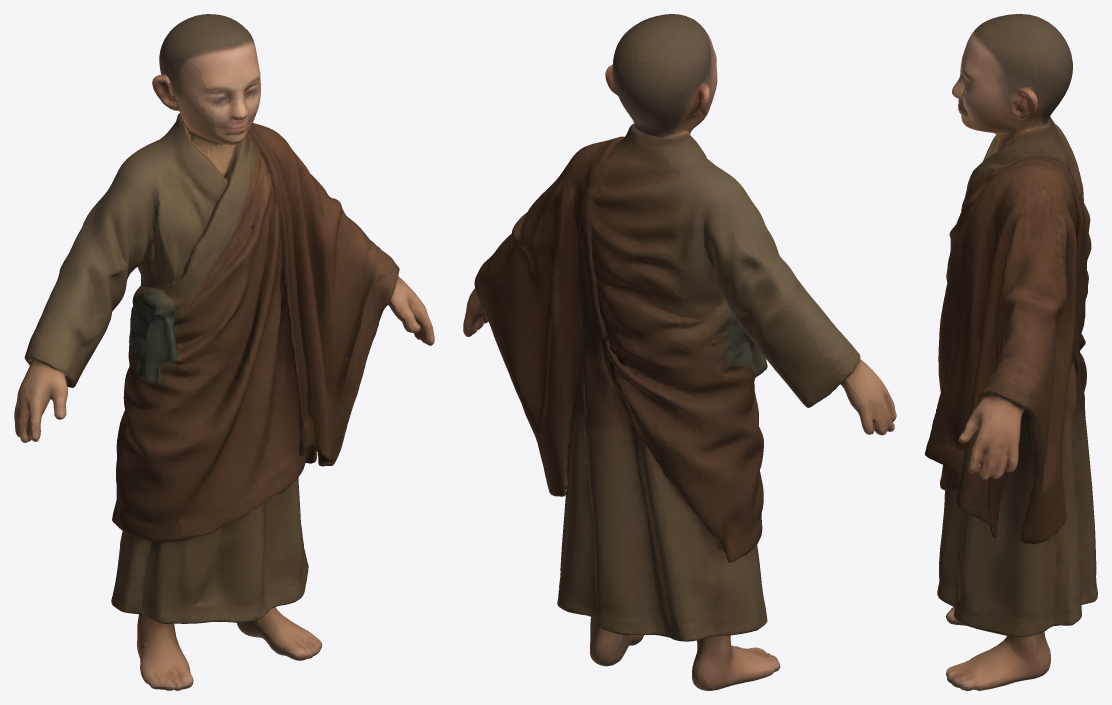
The model's file is CHAR-001.glb.
3 views of the same model, side by side, from view 1: azimuth 30°, elevation 25°; view 2: azimuth 150°, elevation 25°; view 3: azimuth 270°, elevation 25° (orthographic). The views are drawn at different scales.
Visible parts, largest first — view 1: world; view 2: world; view 3: world.
Part boxes in pixels (left/top/right/bottom): world: left=14, top=14, right=434, bottom=690; world: left=463, top=14, right=896, bottom=690; world: left=925, top=14, right=1097, bottom=690.
Size of the model in its own units: 0.8859 by 1.3 by 0.3219.
Materials: 1 (1 with a texture image).
